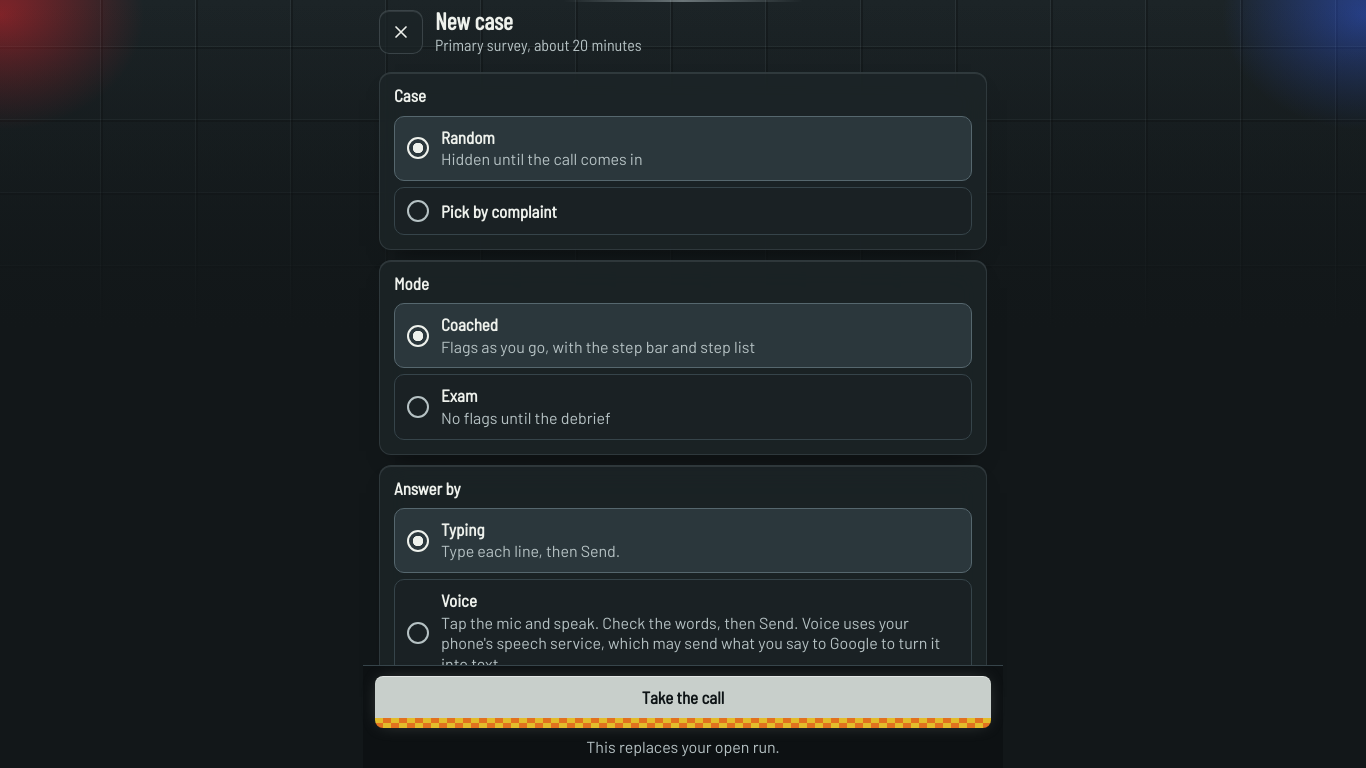
Test: Run start in the app: replacing an open run › pressing that Undo brings the first run back onto the run screen, and focus to its heading
What coordinates should you click on to do the following:
click the button "Take the call"
I would click on:
 (683, 702)
Its box is [375, 676, 991, 728].
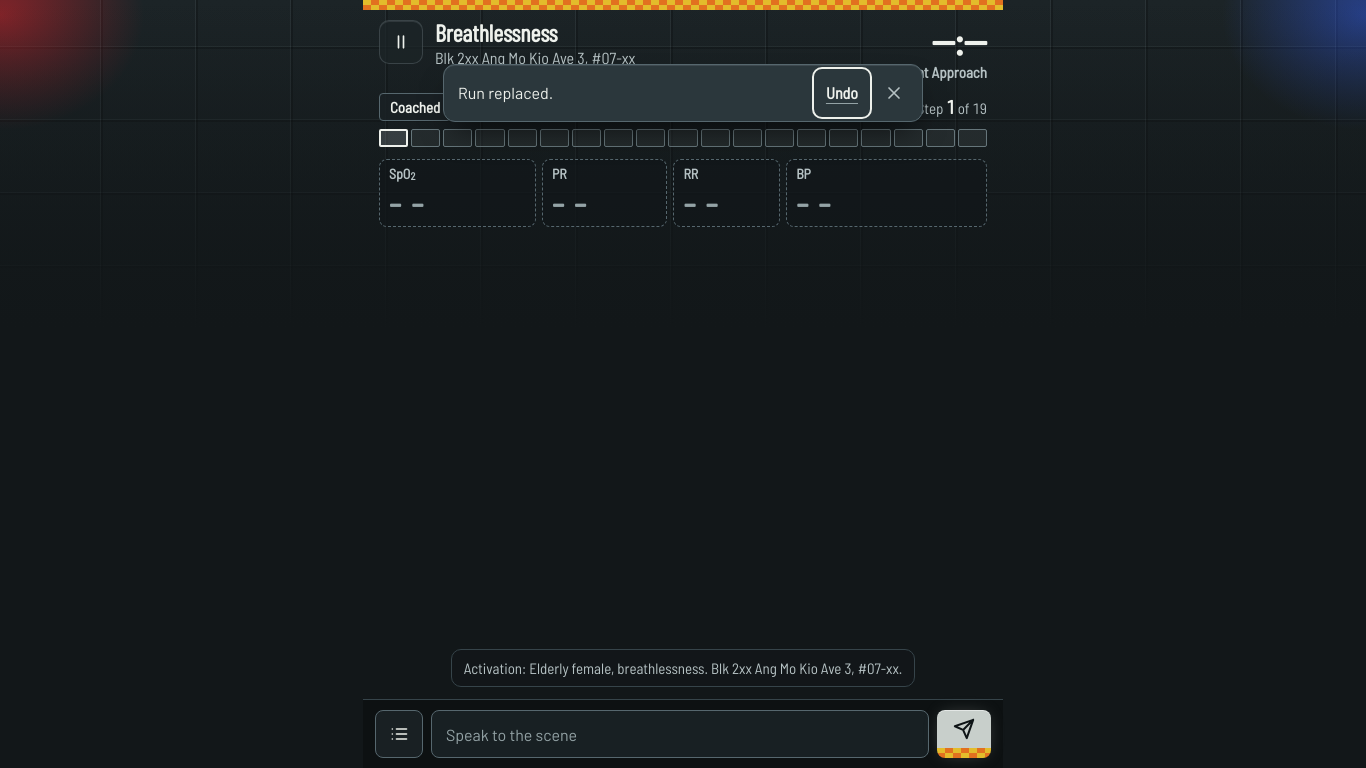
What coordinates should you click on to do the following:
click the button "Undo"
I would click on:
 (842, 93)
Its box is [816, 71, 868, 115].
Wait 200 ms
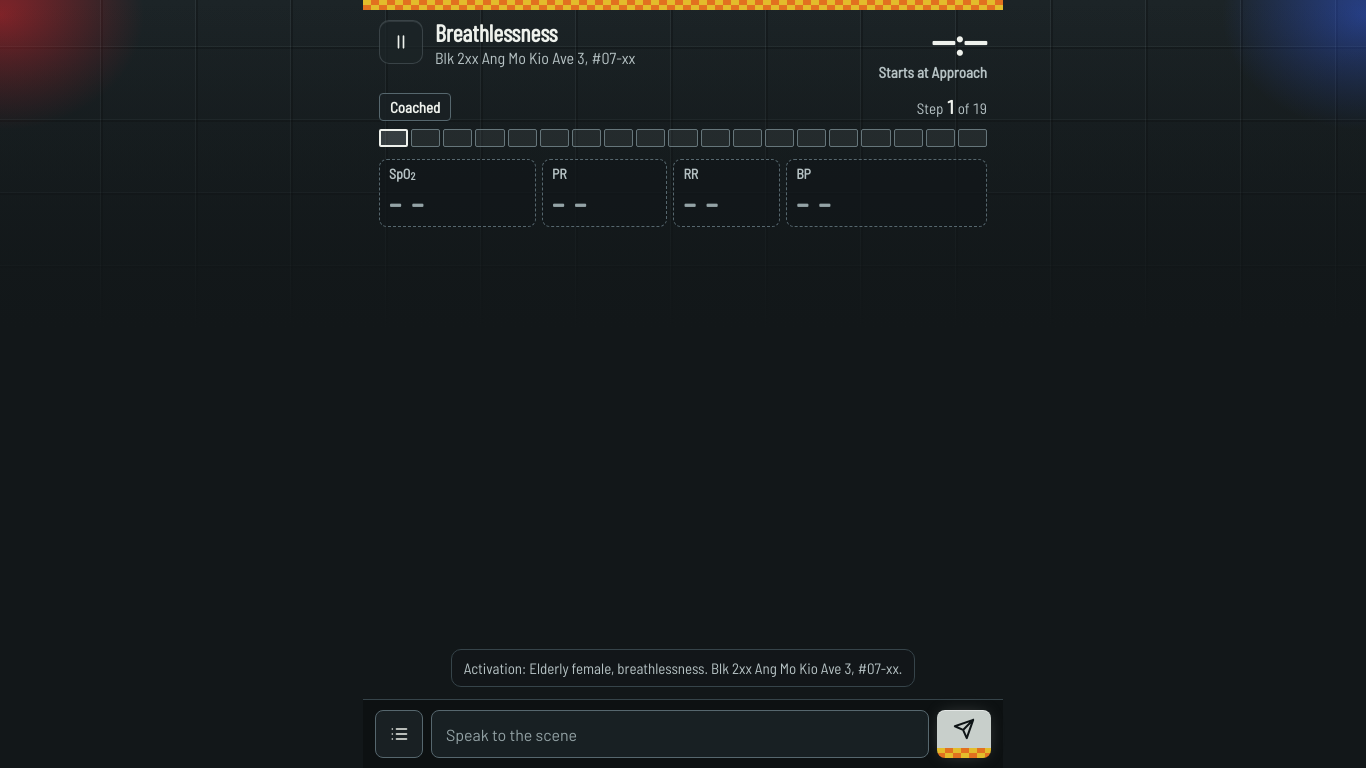
Check: the text "Run replaced." is gone
